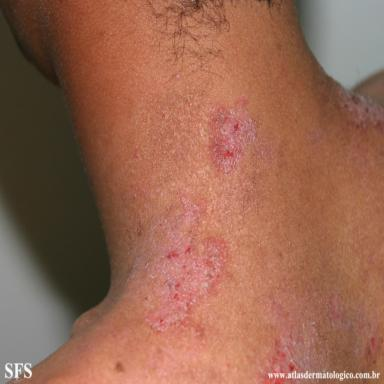Hailey-Hailey-Disease: (145, 197, 228, 332), (209, 96, 257, 172), (268, 320, 330, 372), (331, 82, 384, 140), (326, 294, 342, 331)
